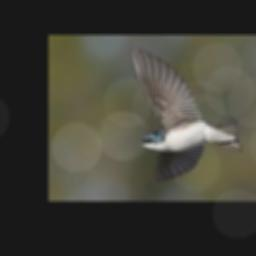Swallow: (129, 45, 242, 188)
